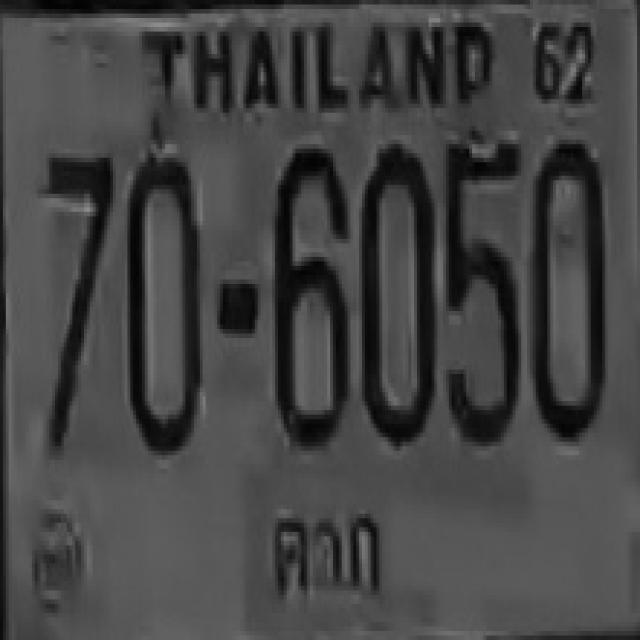0: (528, 140, 606, 437), (124, 153, 200, 451), (359, 142, 434, 439)
5: (444, 138, 520, 440)
6: (272, 144, 348, 442)
7: (43, 153, 113, 451), (45, 153, 111, 352)
Tak: (255, 492, 387, 621)
